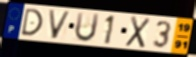1: (104, 14, 117, 45)
3: (152, 20, 172, 49)
D: (20, 7, 44, 37)
U: (73, 11, 101, 44)
V: (47, 8, 73, 40)
X: (124, 15, 152, 50)
